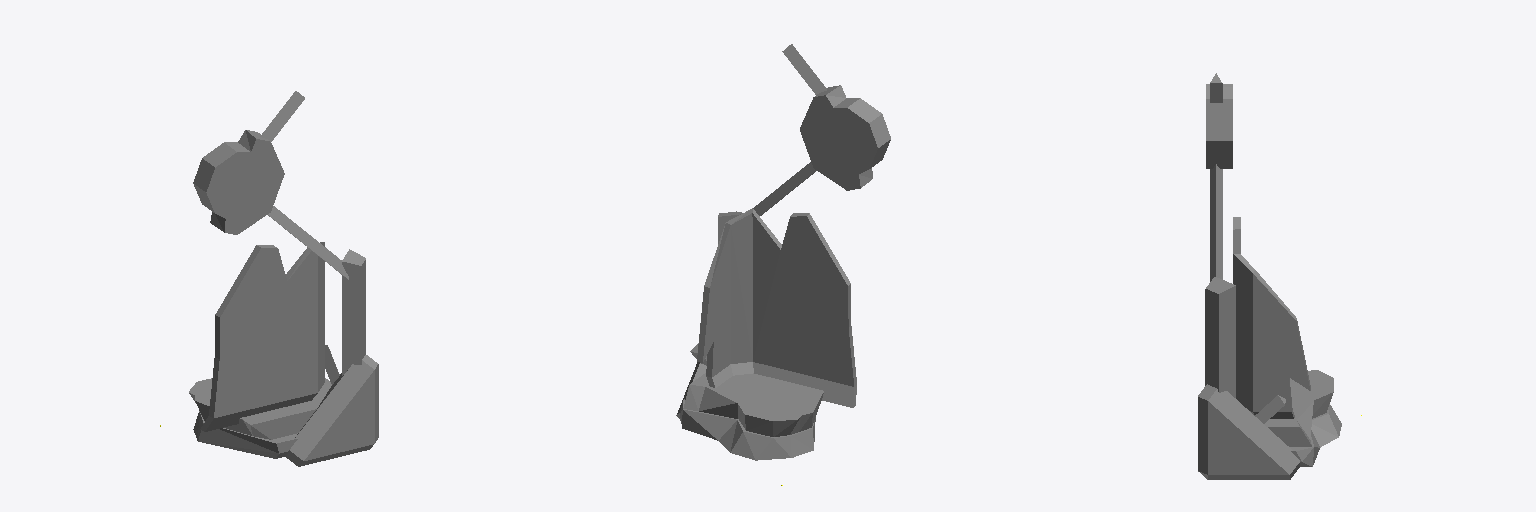
Rendered from cpz_obj_breakboxtall_brk_006.obj.
3 views of the same model, side by side, from view 1: azimuth 30°, elevation 25°; view 2: azimuth 150°, elevation 25°; view 3: azimuth 270°, elevation 25° (orthographic).
Visible parts, largest first — view 1: cpz_glass_tn1_glasstube, cpz_metal_yy_slop_cmn_dpn, ccp_metal_yy_circle_Cmn_dpn, cpz_yy1_road_cmn_dp, cpz_metal_st1_tank01_cmn_dpnE, ccp_metal_yy_yelow_Cmn_dpn; view 2: cpz_glass_tn1_glasstube, cpz_metal_yy_slop_cmn_dpn, cpz_yy1_road_cmn_dp, ccp_metal_yy_yelow_Cmn_dpn; view 3: cpz_metal_yy_slop_cmn_dpn, cpz_glass_tn1_glasstube, cpz_yy1_road_cmn_dp, cpz_metal_st1_tank01_cmn_dpnE, ccp_metal_yy_yelow_Cmn_dpn.
Boxes of the visible parts, <box> form: cpz_glass_tn1_glasstube: <box>200,242,324,431</box>; cpz_metal_yy_slop_cmn_dpn: <box>189,249,378,466</box>; ccp_metal_yy_circle_Cmn_dpn: <box>206,139,284,234</box>; cpz_yy1_road_cmn_dp: <box>193,91,365,384</box>; cpz_metal_st1_tank01_cmn_dpnE: <box>342,260,365,347</box>; ccp_metal_yy_yelow_Cmn_dpn: <box>242,378,331,439</box>; cpz_glass_tn1_glasstube: <box>697,208,856,407</box>; cpz_metal_yy_slop_cmn_dpn: <box>676,95,877,460</box>; cpz_yy1_road_cmn_dp: <box>691,44,890,365</box>; ccp_metal_yy_yelow_Cmn_dpn: <box>683,373,708,410</box>; cpz_metal_yy_slop_cmn_dpn: <box>1198,73,1341,479</box>; cpz_glass_tn1_glasstube: <box>1233,217,1310,418</box>; cpz_yy1_road_cmn_dp: <box>1205,83,1284,423</box>; cpz_metal_st1_tank01_cmn_dpnE: <box>1205,286,1235,371</box>; ccp_metal_yy_yelow_Cmn_dpn: <box>1264,420,1311,446</box>.
Size of the model in its own units: 43.85 by 90.59 by 36.14.